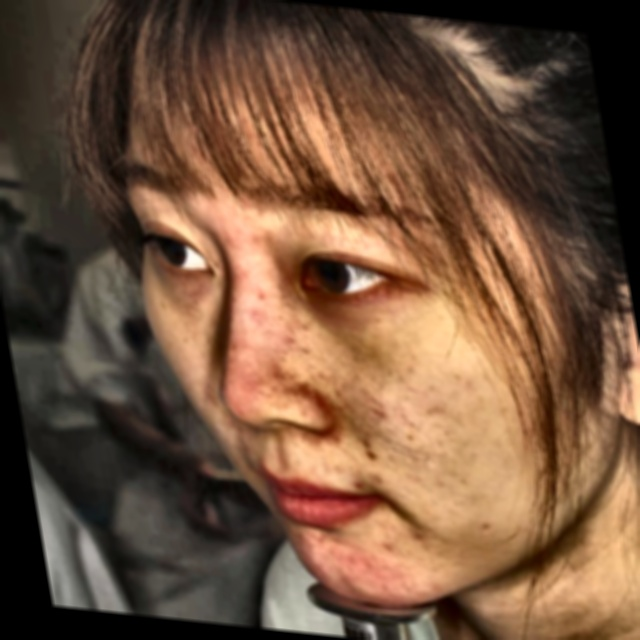comedone: (352, 437, 384, 465)
